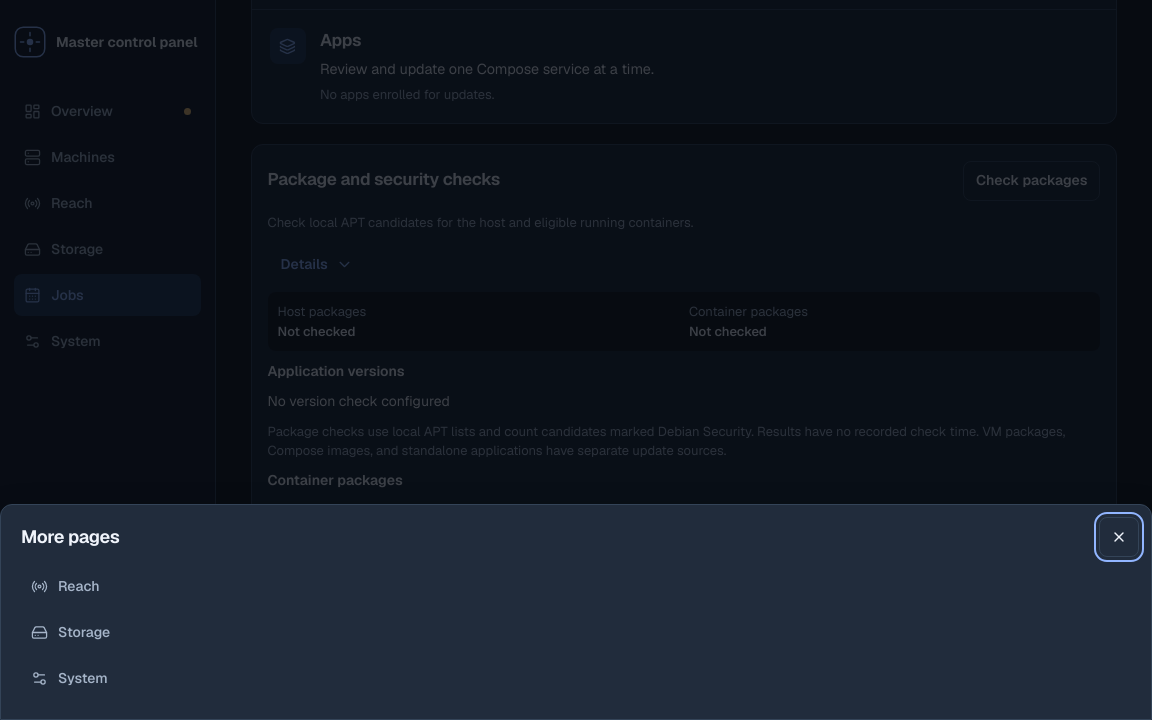
it: redesigned workflows › keeps navigation and reports accessible without dispatching an action
The width and height of the screenshot is (1152, 720).
Earlier steps of the test are not shown.
Later steps or results of the test are not shown.
(page scrolled)
Expected: the navigation bar named "More pages" is shown, x1=31 y1=576 x2=110 y2=686
Click the link to "/storage" at (71, 632), box x1=31 y1=622 x2=110 y2=640
(page scrolled)
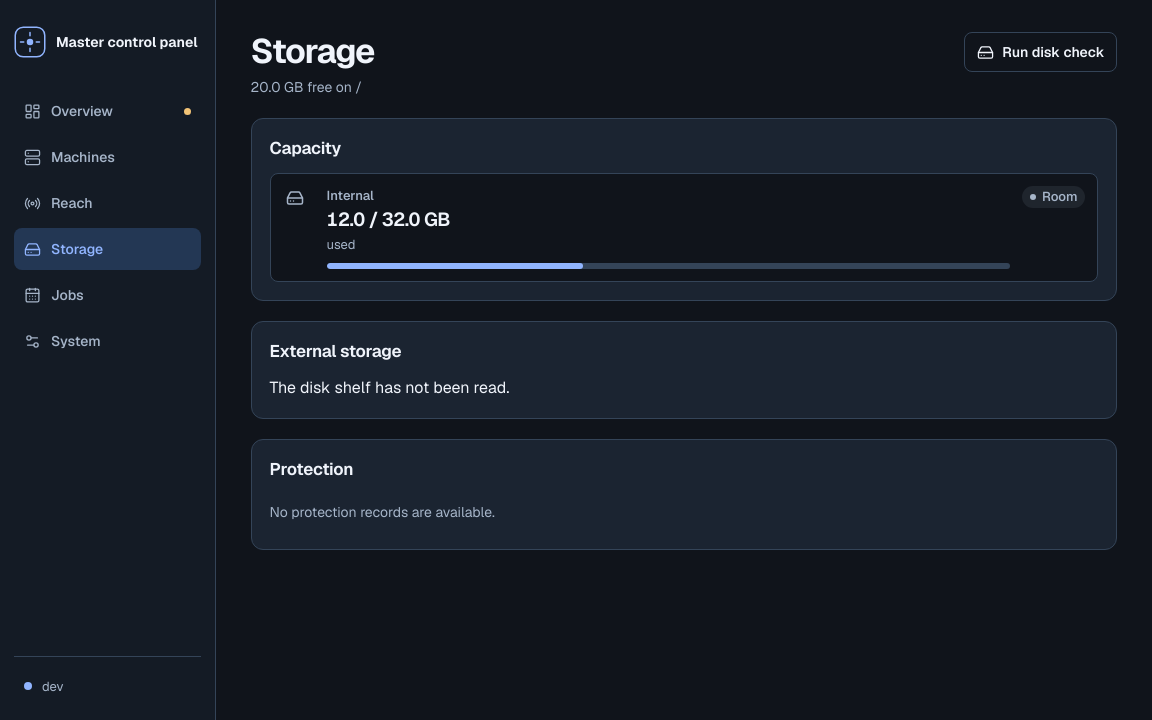
Now the heading "Storage" is shown, box x1=250 y1=32 x2=374 y2=71
Click the link to "/guests" at (69, 156), box x1=24 y1=148 x2=115 y2=166
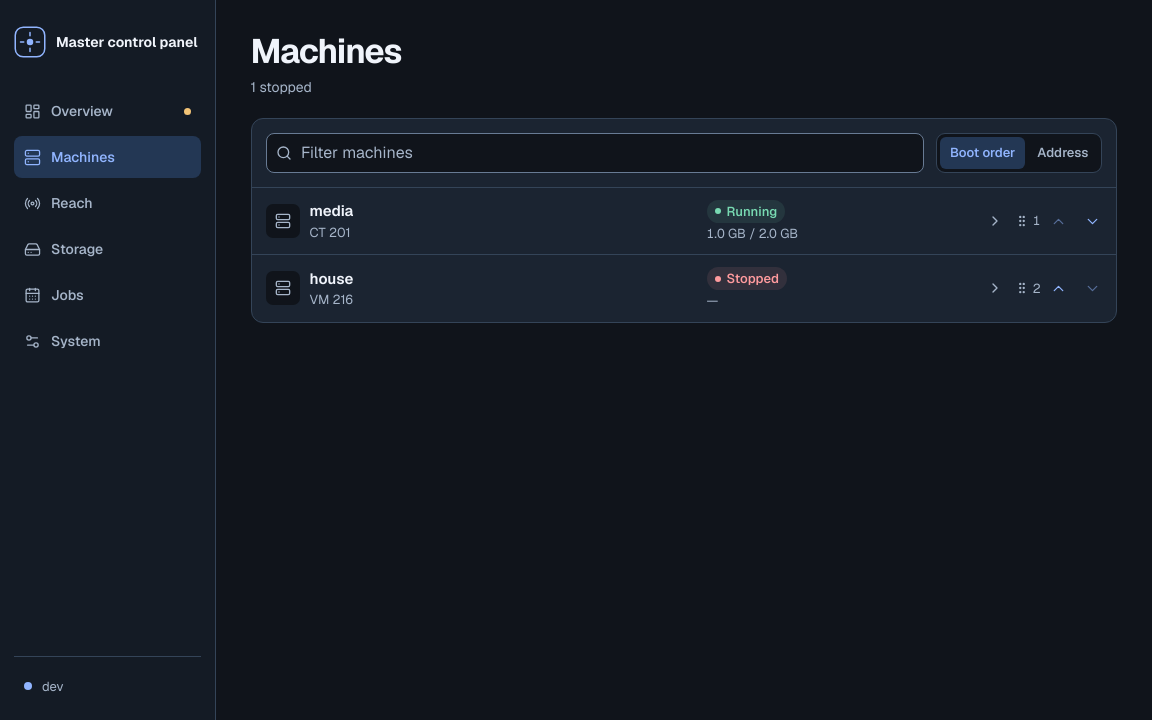
Click the link to "/guests/201" at (283, 221), box x1=252 y1=188 x2=1015 y2=254
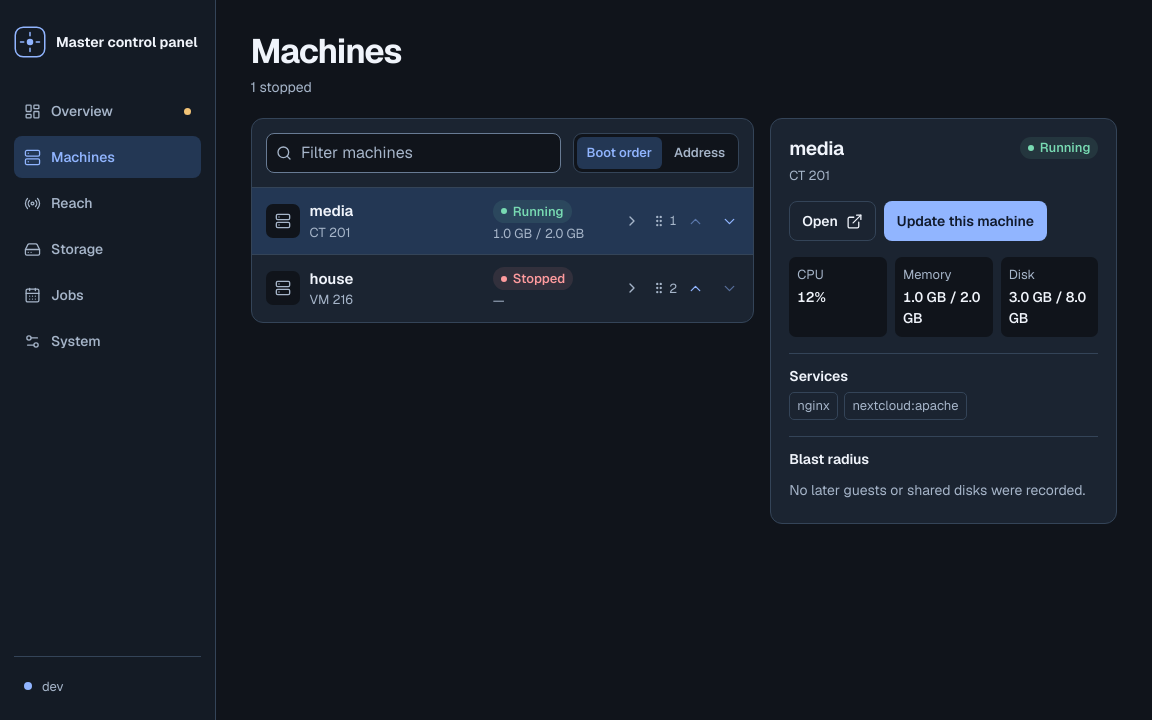
Now the heading "media" is shown, box x1=789 y1=137 x2=844 y2=162
Click the button "Update this machine" at (966, 221), box x1=884 y1=201 x2=1047 y2=241
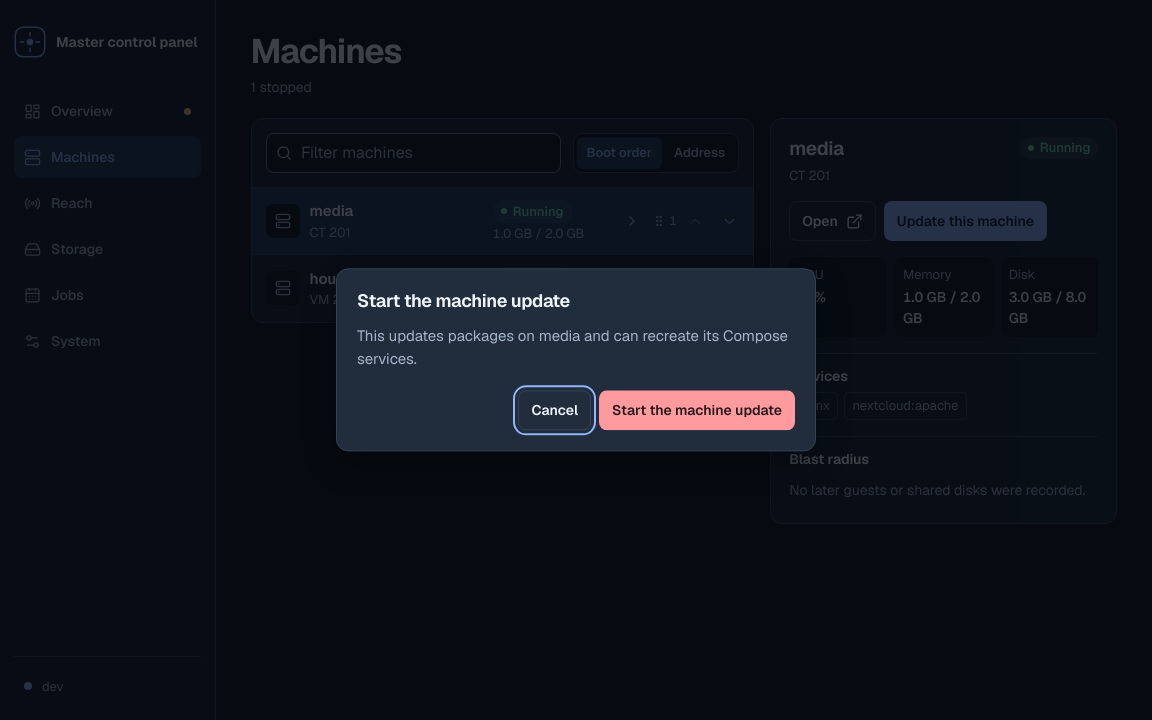
Now the dialog shows "can recreate its Compose services", box x1=357 y1=327 x2=788 y2=368
